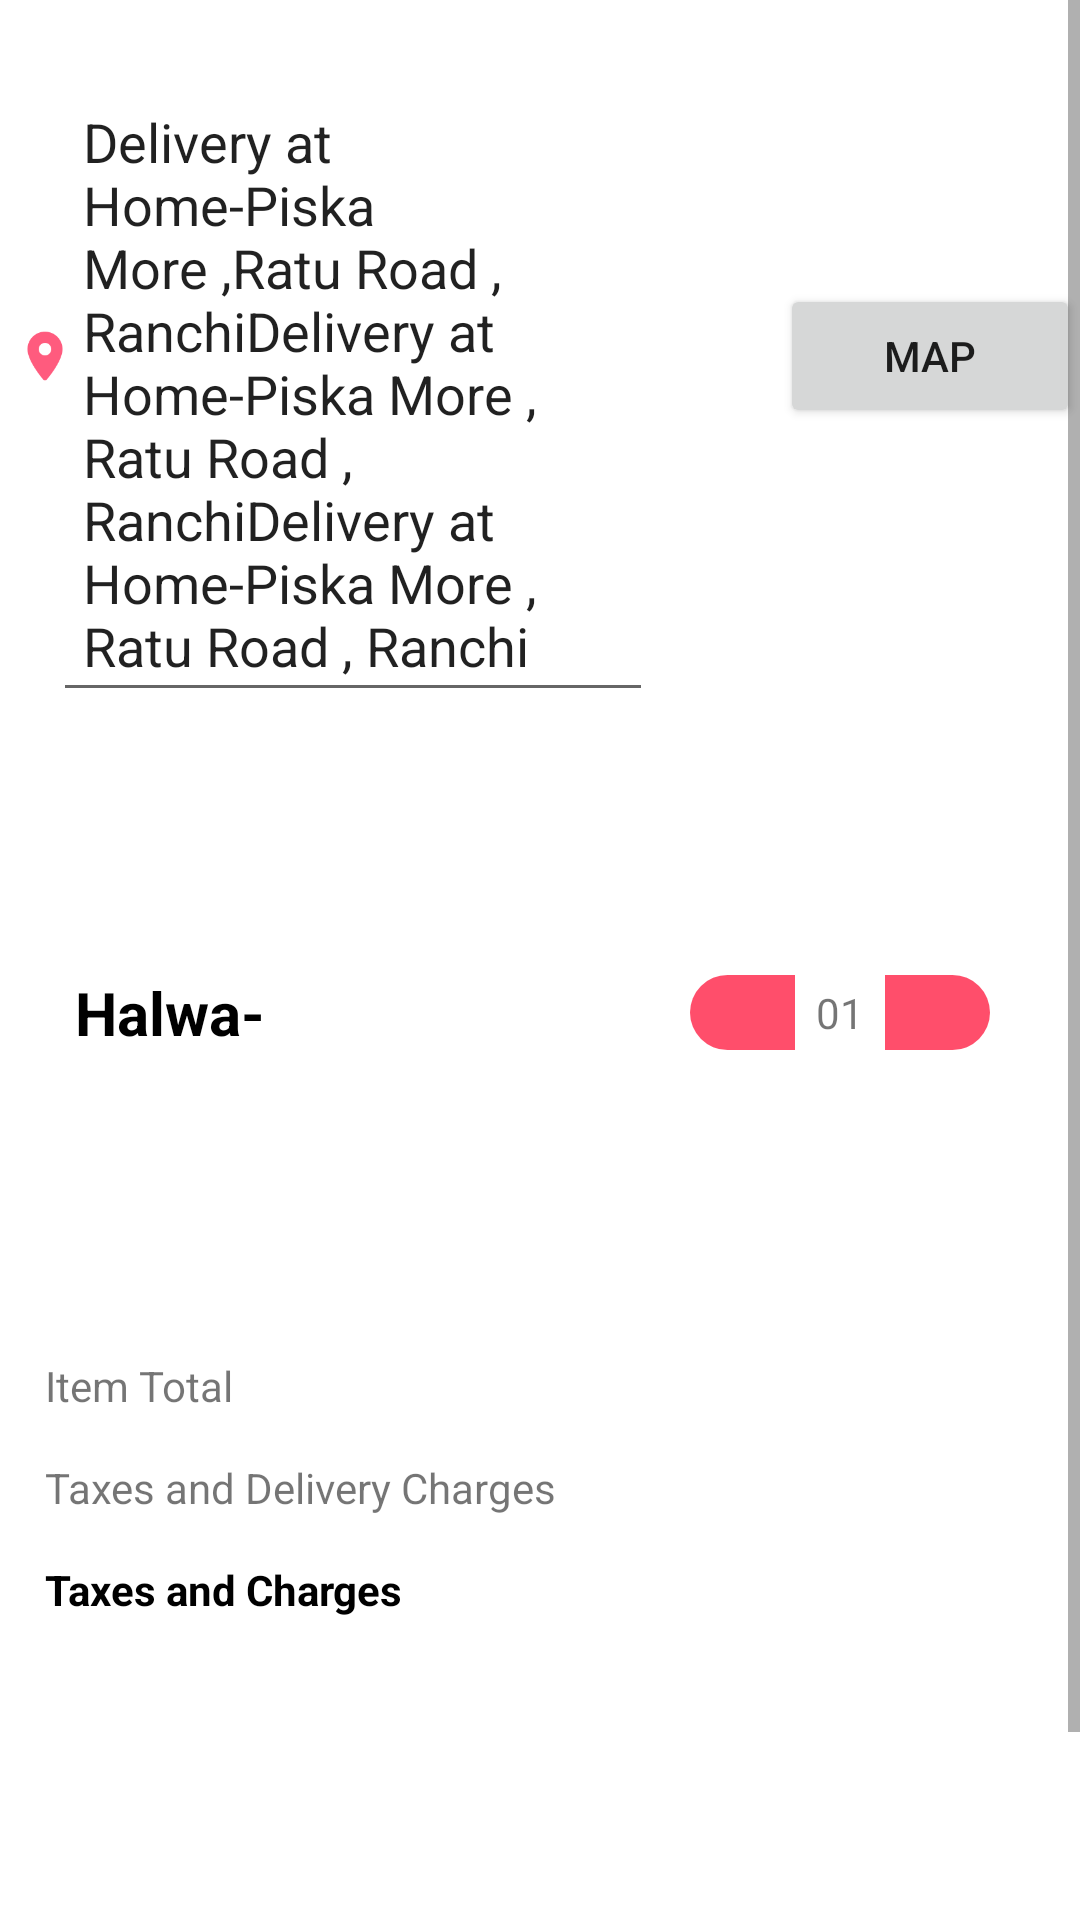

Icons on this 1080w x 1920h Android screen, each with the point to tap as point (x, y):
locationiconimg: point (45, 356)
